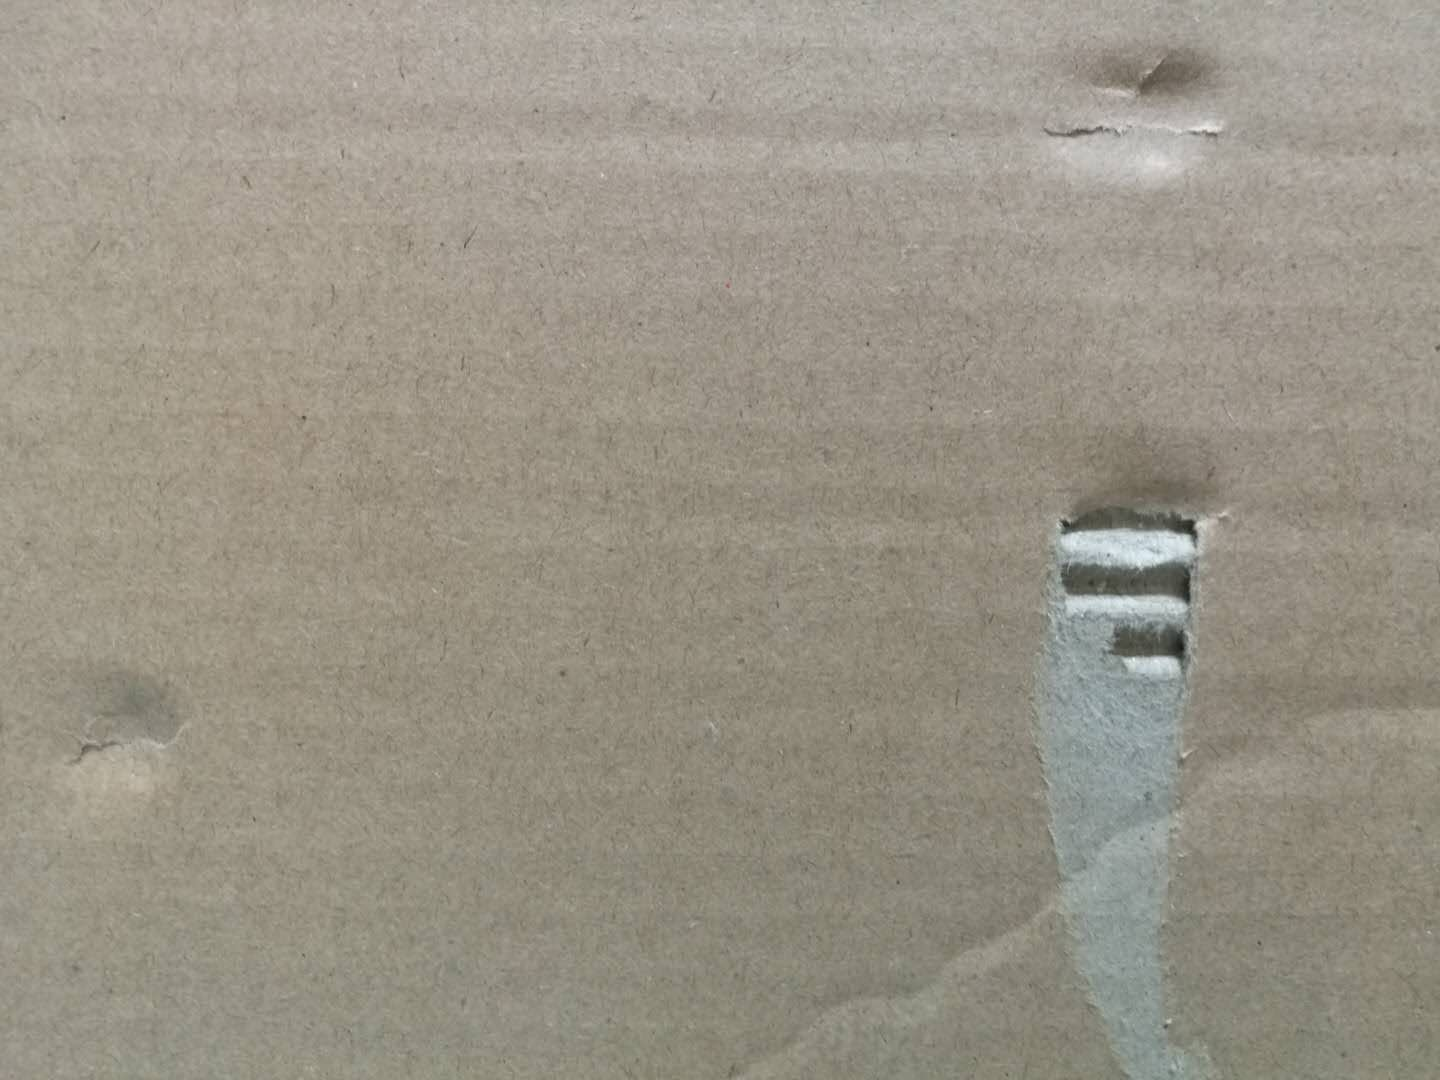defect: (698, 642, 1440, 1079), (1013, 464, 1291, 1080), (5, 646, 243, 857), (1030, 33, 1267, 212)
